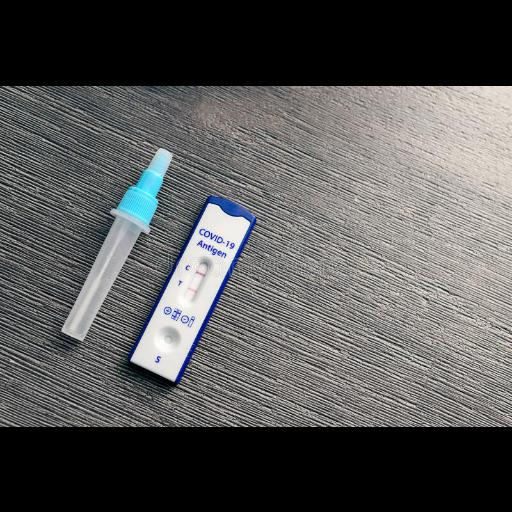Pos: (128, 195, 257, 382)
